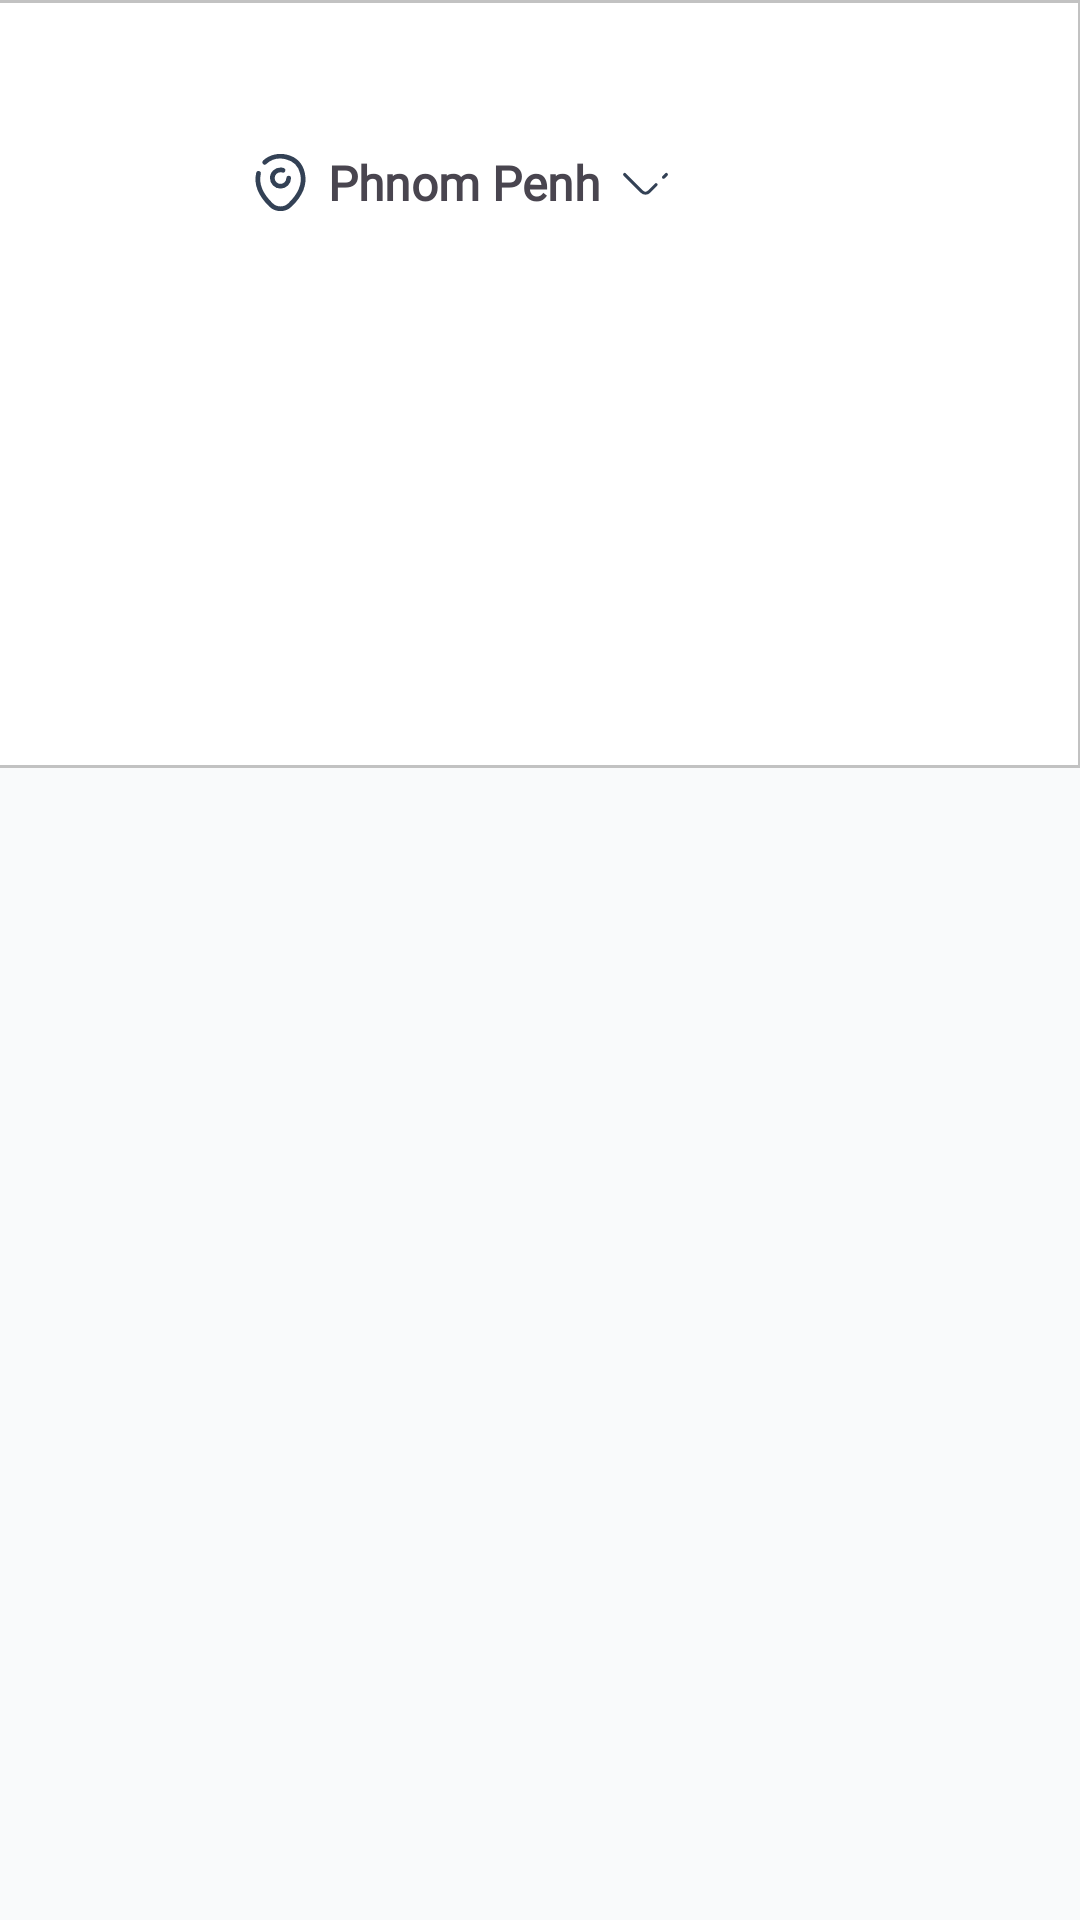

Named icons in this screenshot (1080px x 1920px) and their centers, point (x, y):
arrow: point (645, 183)
